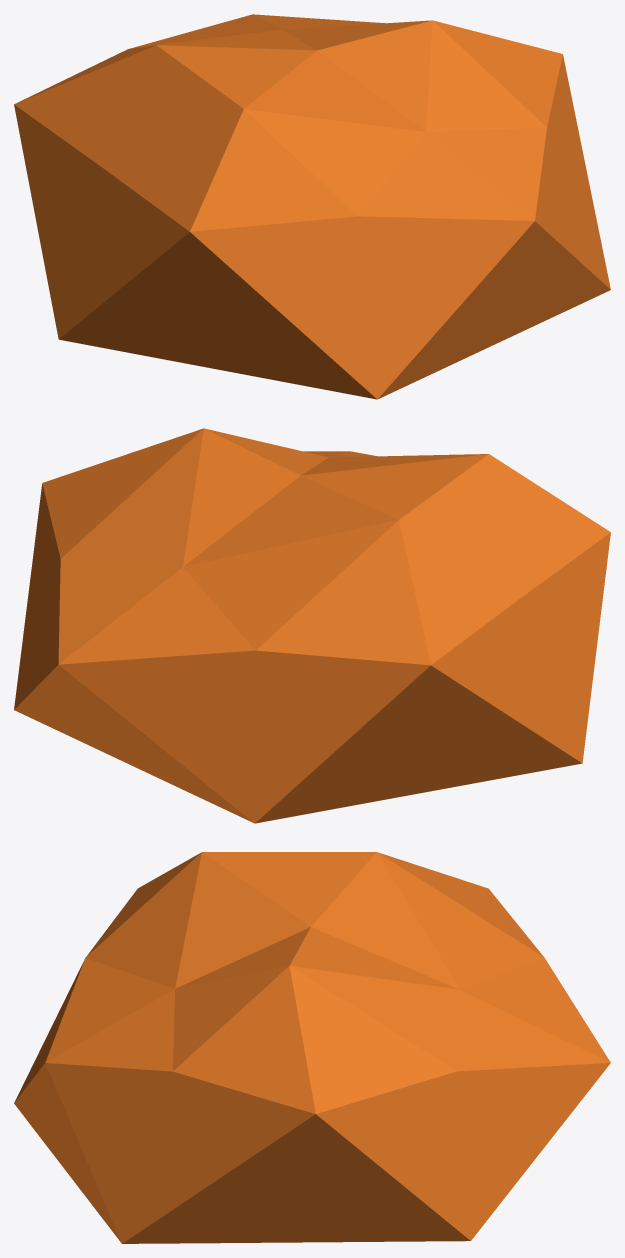
Rendered from shrub01.fbx.
The picture shows the model from 3 angles, top to bottom: view 1: azimuth 30°, elevation 25°; view 2: azimuth 150°, elevation 25°; view 3: azimuth 270°, elevation 25°; orthographic projection. The views are drawn at different scales.
Visible parts, largest first — view 1: Icosphere; view 2: Icosphere; view 3: Icosphere.
Boxes of the visible parts, x1,y1,x2,y2 form: Icosphere: (14, 14, 610, 399); Icosphere: (14, 428, 610, 823); Icosphere: (14, 852, 610, 1243).
Size of the model in its own units: 225 by 134 by 226.
